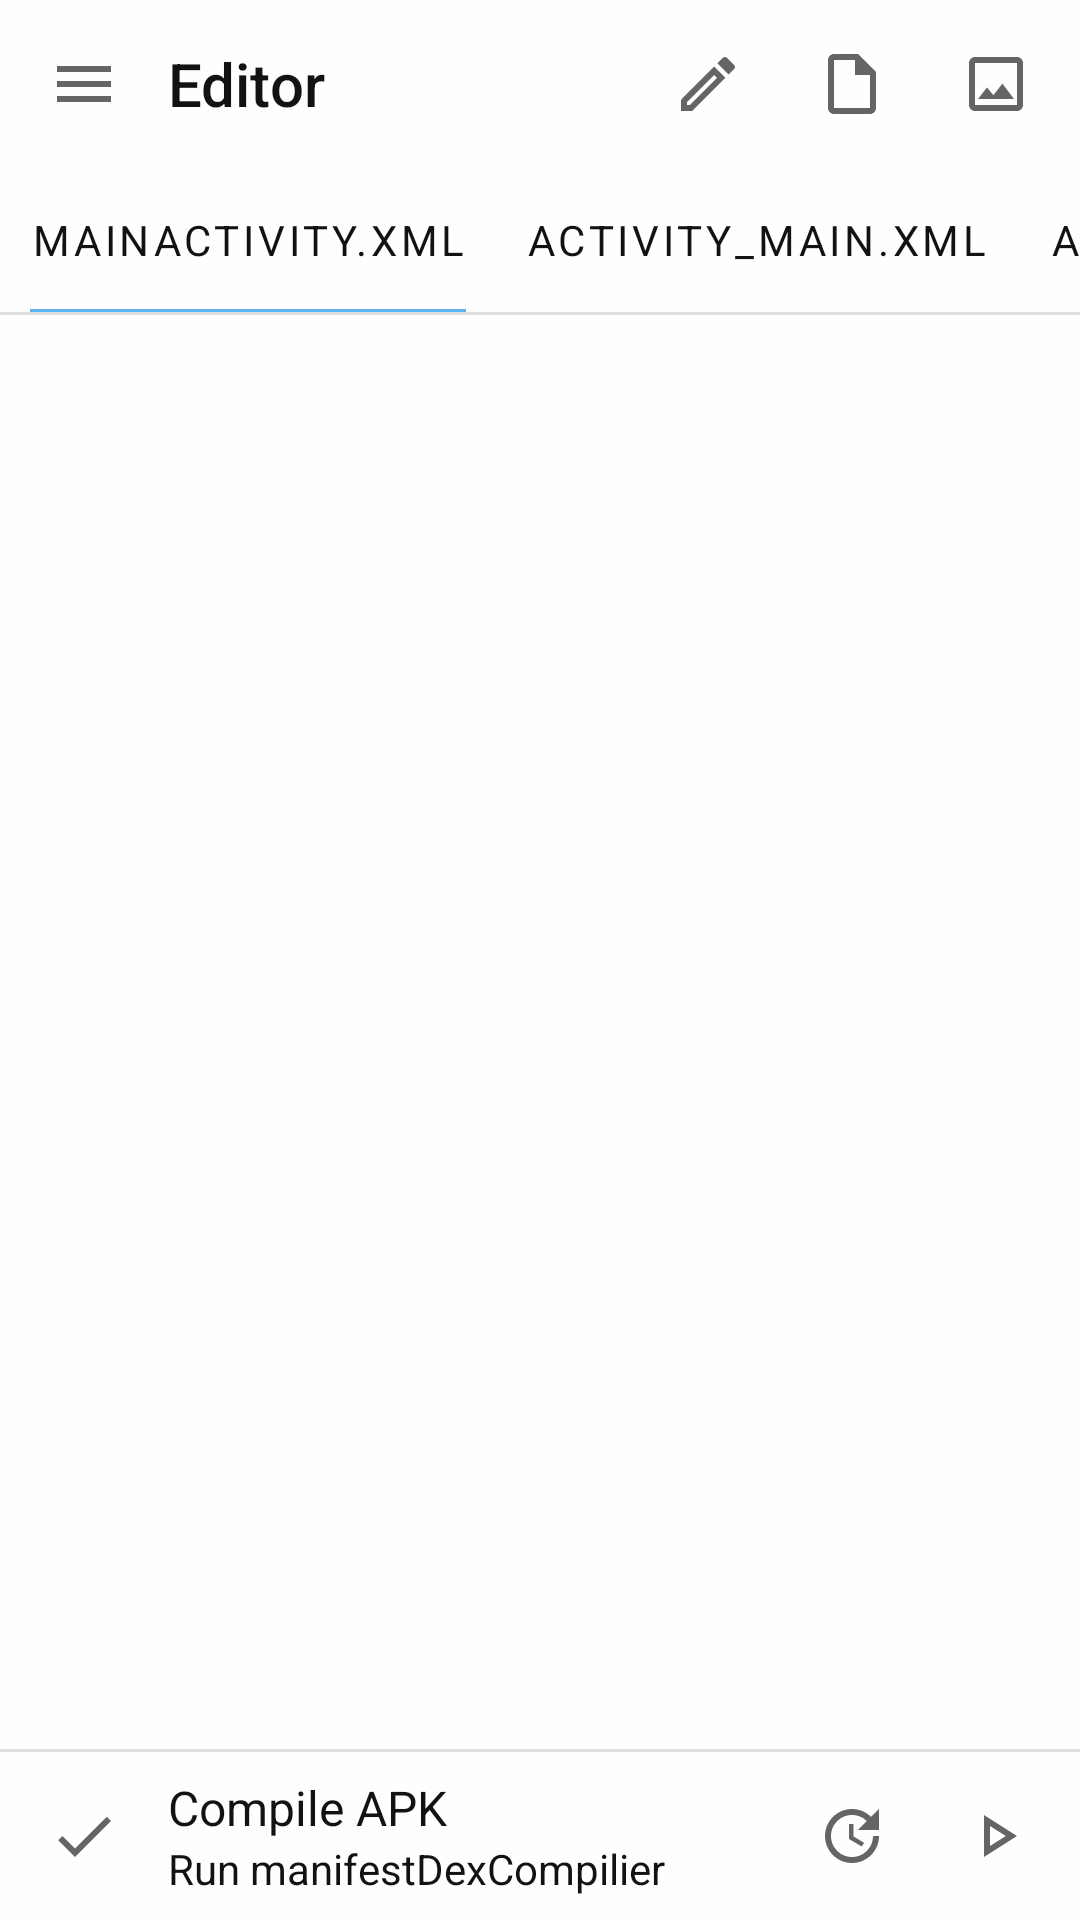

Icon click points for this 1080 x 1920 phone screenshot, format (x,y):
done: (84,1837)
file: (852,84)
menu: (84,84)
play: (1000,1836)
update: (852,1836)
